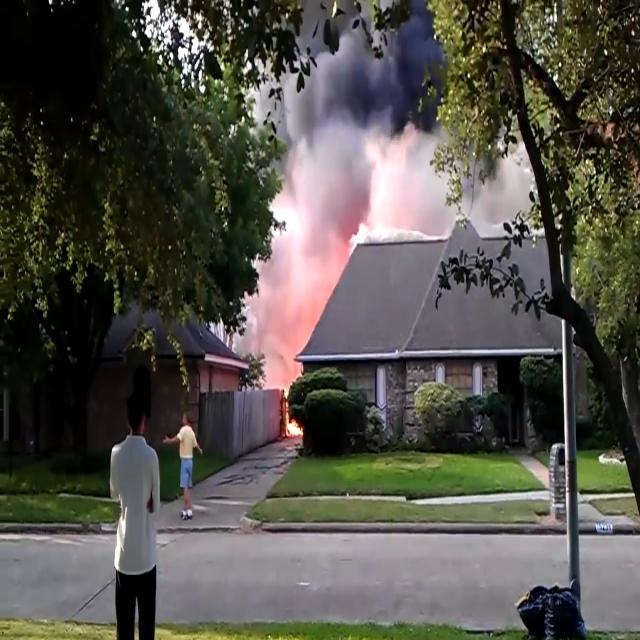Fire: (280, 389, 306, 443)
Smoke: (261, 5, 445, 275)
